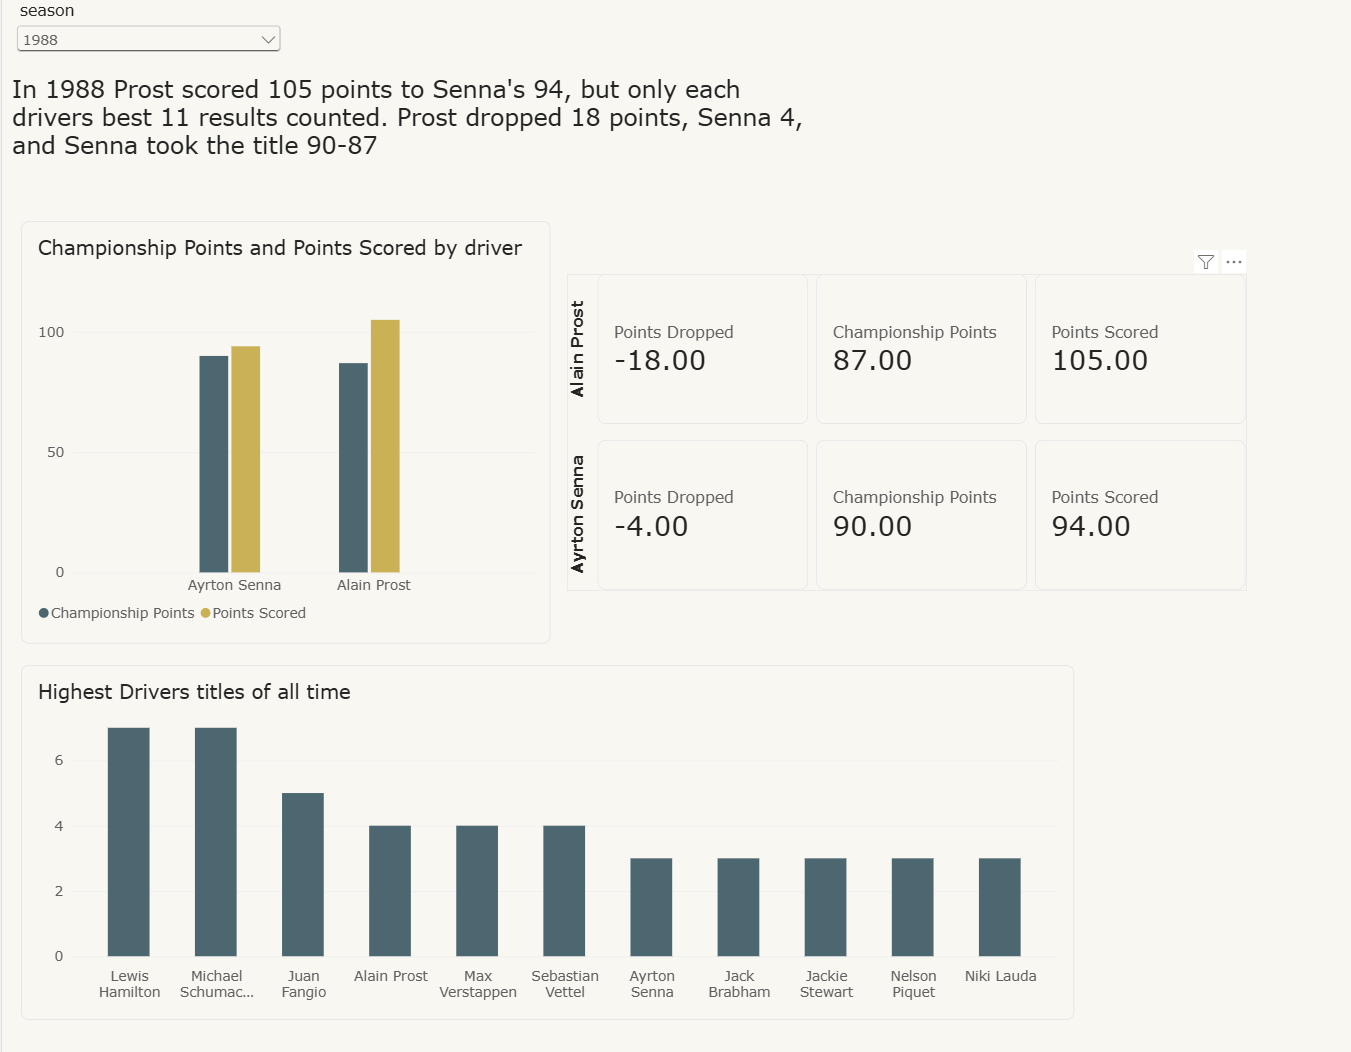

This screenshot's page, from the dashboard's own definition file:
{"tool":"powerbi","page":{"name":"Best Results","canvas":[1920,1080],"ordinal":2},"visuals":[{"type":"slicer","fields":{"Values":["dim_season.season"]},"box":[10.2,0,279.4,87.7],"z":0},{"type":"clusteredColumnChart","title":"Championship Points and Points Scored by driver","fields":{"Category":["dim_driver.driver_name"],"Y":["_Measures.Championship Points","_Measures.Points Scored"]},"box":[19.4,225.3,540.4,431.3],"z":1000},{"type":"cardVisual","fields":{"Data":["_Measures.Points Dropped","_Measures.Championship Points","_Measures.Total Points"],"Rows":["dim_driver.driver_name"]},"box":[576.1,279.4,693.4,323.2],"z":2000},{"type":"textbox","box":[10.2,75.5,807.6,149.9],"z":3000},{"type":"clusteredColumnChart","title":"Highest Drivers titles of all time","fields":{"Category":["dim_driver.driver_name"],"Y":["_Measures.Titles"]},"box":[19.4,678.1,1073.7,362],"z":4000}]}

Visuals, with their boxes on the page's 1920x1080 design canvas (x1, y1, x2, y2). These are canvas units, not pixel positions in the 1351x1052 screenshot, which may show the page scaled, cropped or inside an application window:
slicer - dim_season.season: {"left": 10, "top": 0, "right": 290, "bottom": 88}
"Championship Points and Points Scored by driver" clusteredColumnChart: {"left": 19, "top": 225, "right": 560, "bottom": 657}
cardVisual - _Measures.Points Dropped x _Measures.Championship Points: {"left": 576, "top": 279, "right": 1270, "bottom": 603}
textbox: {"left": 10, "top": 76, "right": 818, "bottom": 225}
"Highest Drivers titles of all time" clusteredColumnChart: {"left": 19, "top": 678, "right": 1093, "bottom": 1040}
